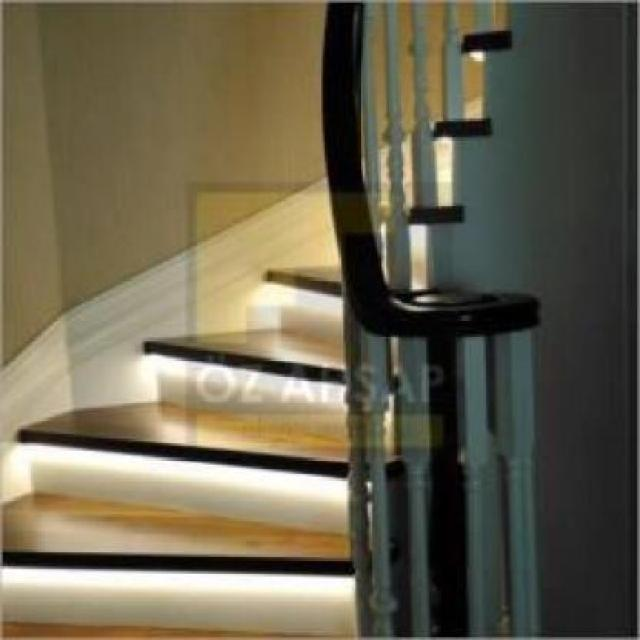stair: (0, 38, 542, 636)
